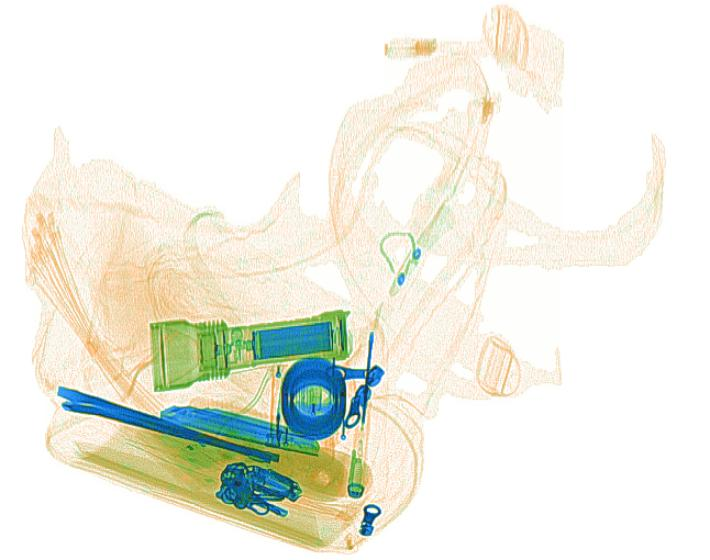battery: (248, 318, 334, 361)
knife: (157, 404, 322, 458)
